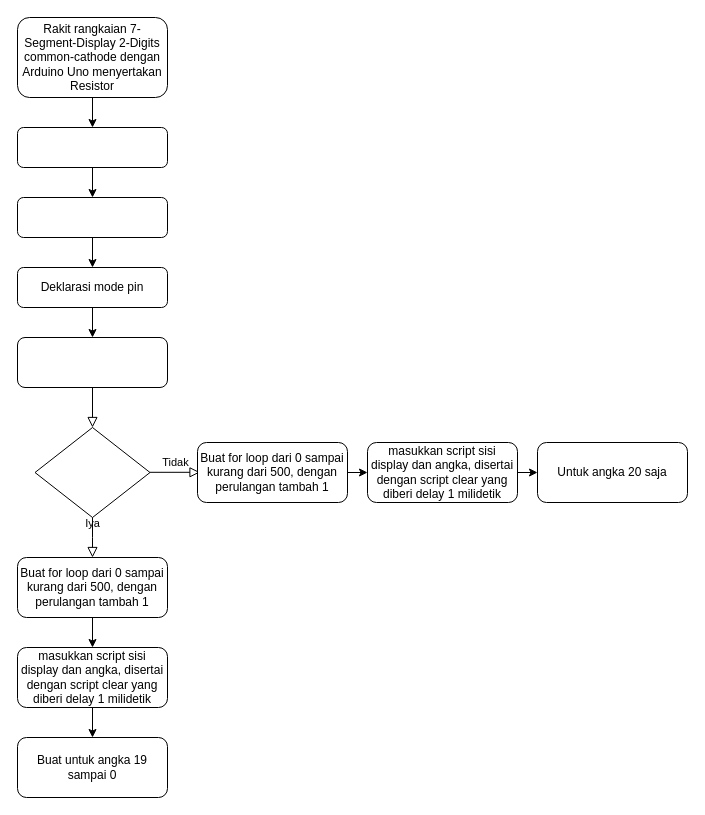
Image size: 705x815. Some labels were removed from this diagram. Each missing label, with the centre of its shape:
"Apakah button dipencet?" belongs at [92,472].
"Buat script 7-Segment-Display per angka dan buat script khusus sisi display" belongs at [92,362].
"Deklarasi nama pin" belongs at [92,217].
"Masuk ke perancangan kode" belongs at [92,147].
